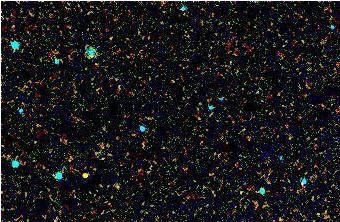star: (70, 160, 100, 190)
